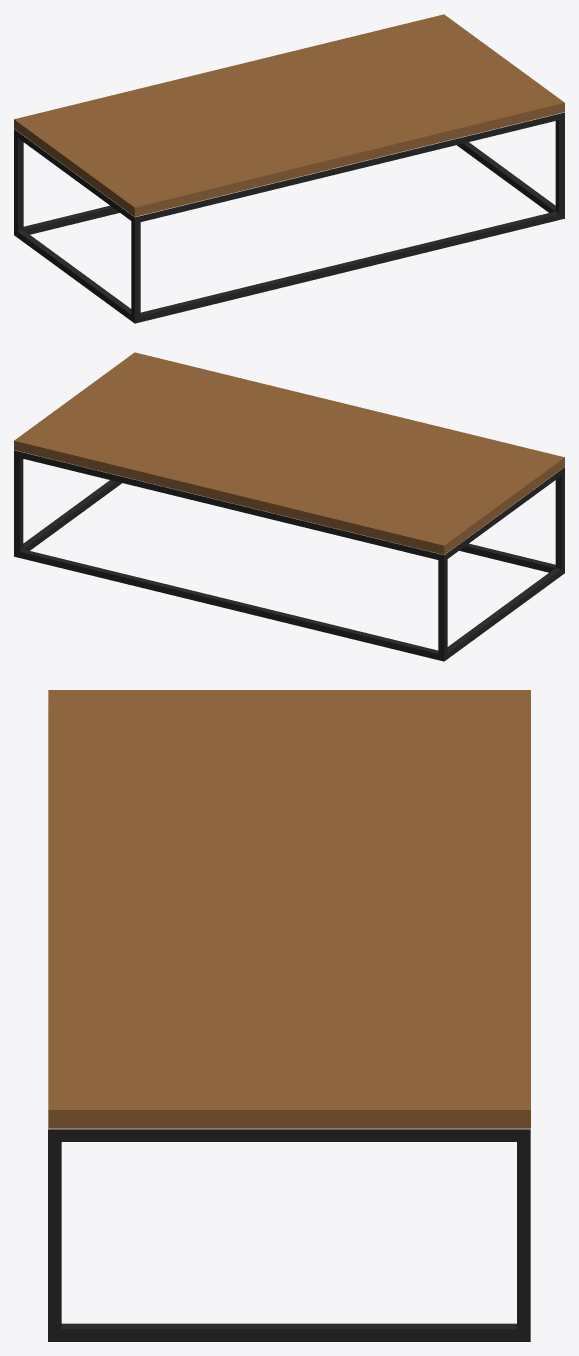
File: coffee_table.fbx
The picture shows the model from 3 angles, top to bottom: view 1: azimuth 30°, elevation 25°; view 2: azimuth 150°, elevation 25°; view 3: azimuth 270°, elevation 25°; orthographic projection. The views are drawn at different scales.
Visible parts, largest first — view 1: Group1, CBCoffeeTable1; view 2: Group1, CBCoffeeTable1; view 3: Group1, CBCoffeeTable1.
Boxes of the visible parts, x1,y1,x2,y2 form: Group1: (14, 14, 564, 216); CBCoffeeTable1: (14, 112, 564, 323); Group1: (14, 352, 564, 554); CBCoffeeTable1: (14, 450, 564, 661); Group1: (48, 690, 530, 1128); CBCoffeeTable1: (48, 710, 530, 1341).
Bounding box in the file's own units: 1.83 × 0.4712 × 0.8896.
